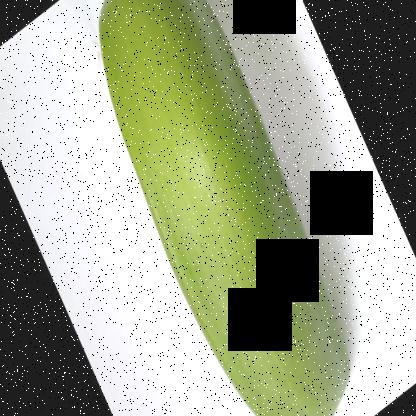freshunripe: (72, 0, 364, 415)
